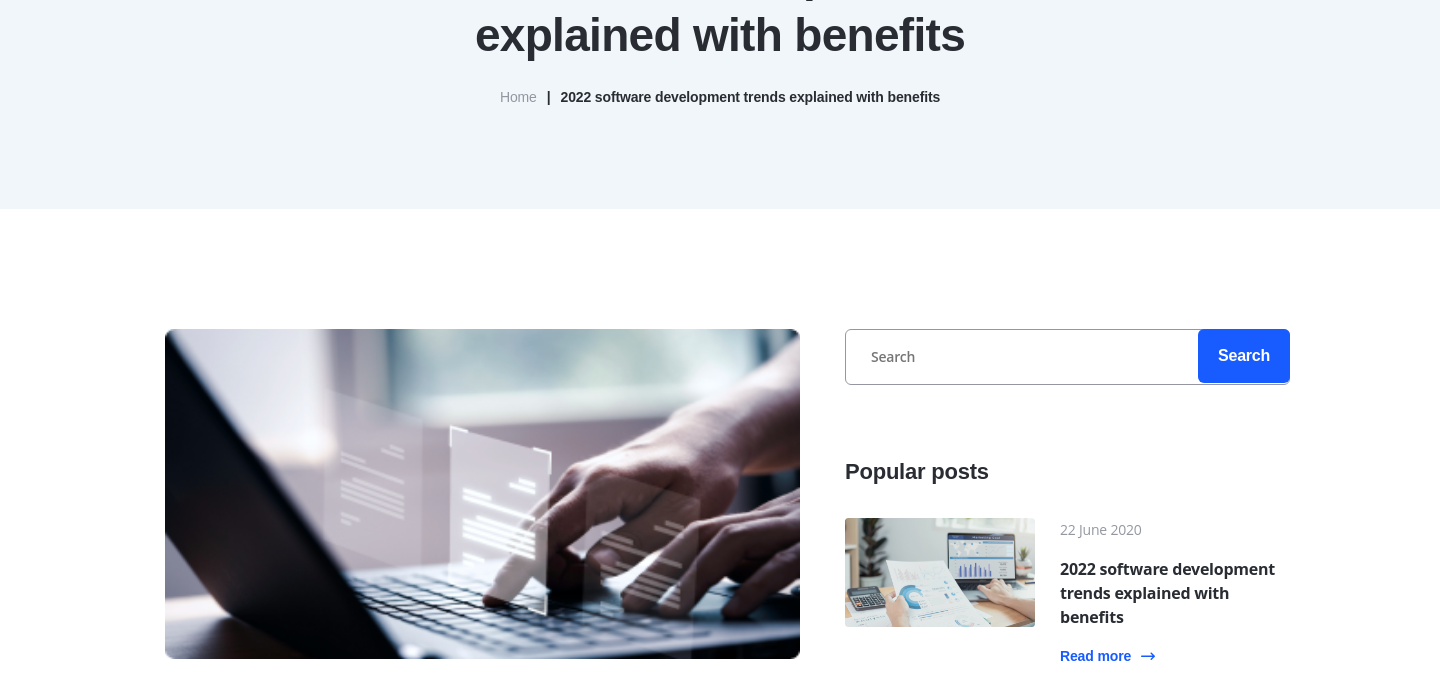
Test: Blog and single blog pages › try to submit without any value
(page scrolled)
Focus the field with test id "searchBloByTag": (1068,357) [845, 329, 1290, 385]
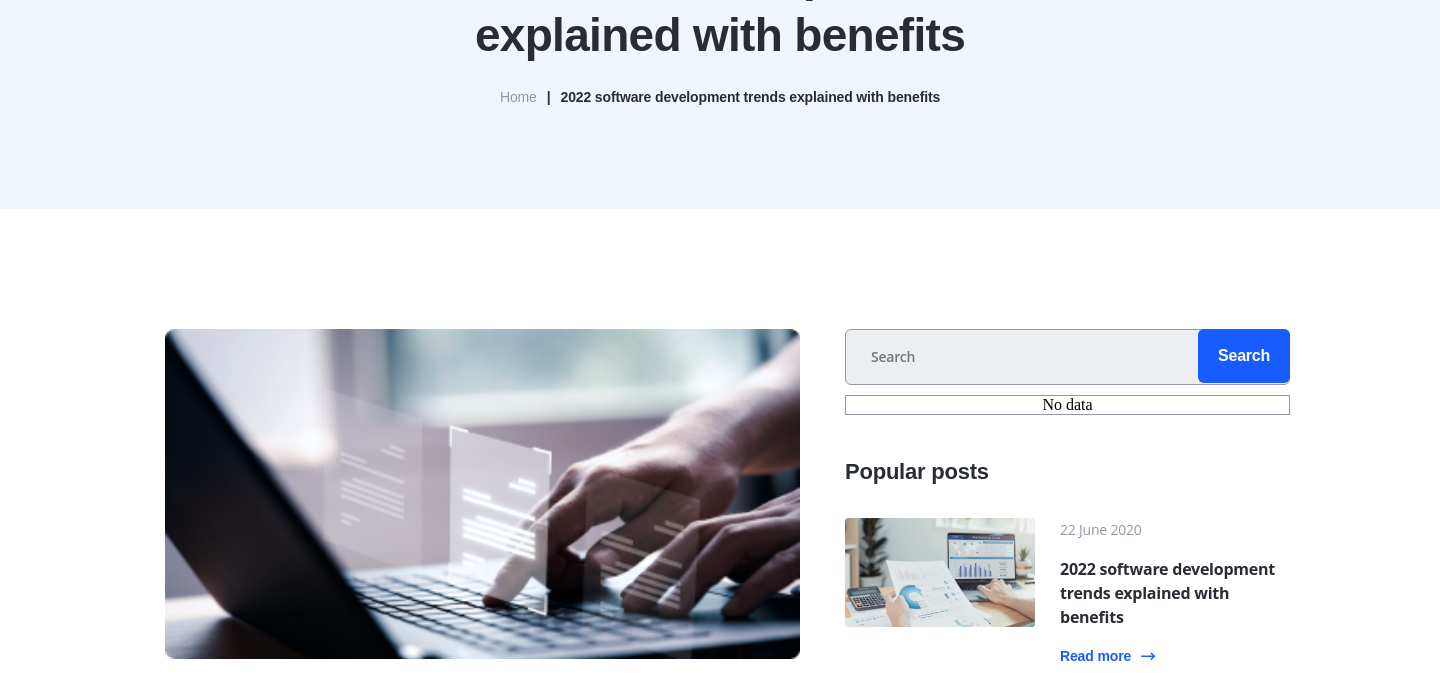
Expected: the element with test id "submitBlogSearching" is enabled
Click the button with test id "submitBlogSearching": (1244,356) [1198, 329, 1290, 383]
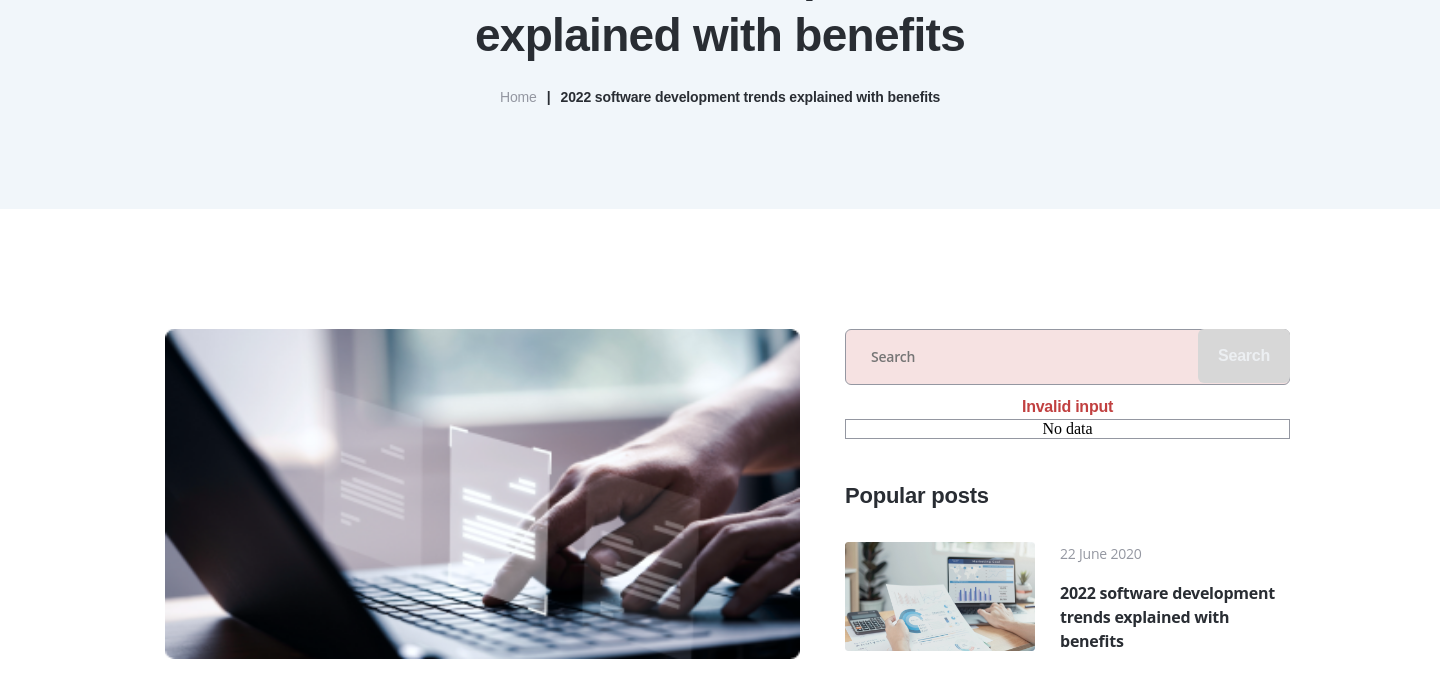
Expected: the button with test id "submitBlogSearching" is disabled, [1198, 329, 1290, 383]
Expected: the text "Invalid input" is shown, [1022, 398, 1113, 415]
